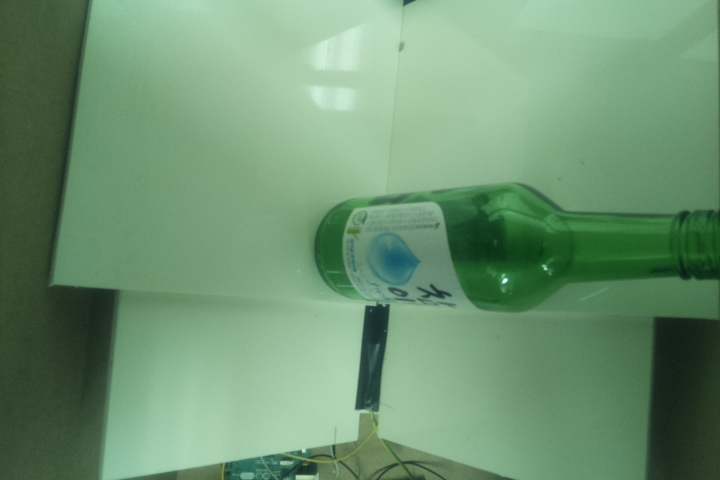soju: (314, 180, 720, 313)
